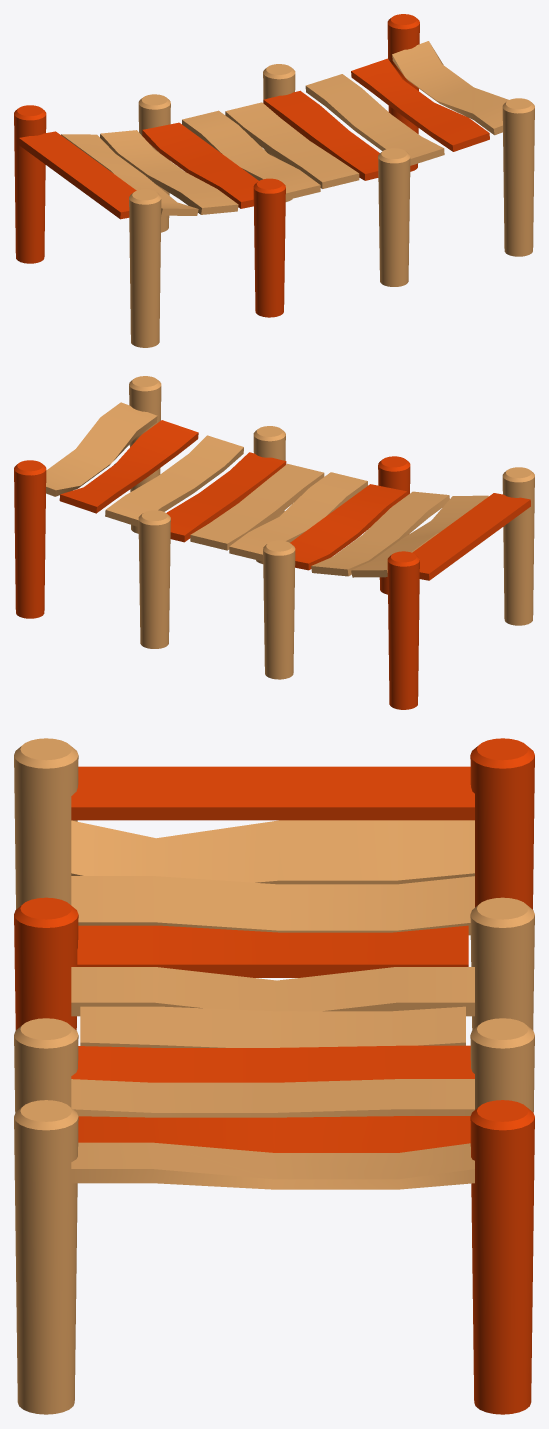
Rendered from Bridge.fbx.
The picture shows the model from 3 angles, top to bottom: view 1: azimuth 30°, elevation 25°; view 2: azimuth 150°, elevation 25°; view 3: azimuth 270°, elevation 25°; orthographic projection. The views are drawn at different scales.
Parts seen in each view (by area): view 1: Bridge; view 2: Bridge; view 3: Bridge.
Part boxes in pixels (box(x1,y1,x2,y2)): Bridge: box(14, 14, 534, 347); Bridge: box(14, 376, 534, 709); Bridge: box(14, 738, 534, 1414).
Bounding box in the file's own units: 660 × 226 × 365.
